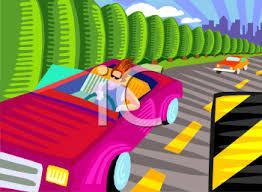car: (2, 61, 187, 189), (214, 54, 250, 75)
person: (92, 58, 144, 113)
